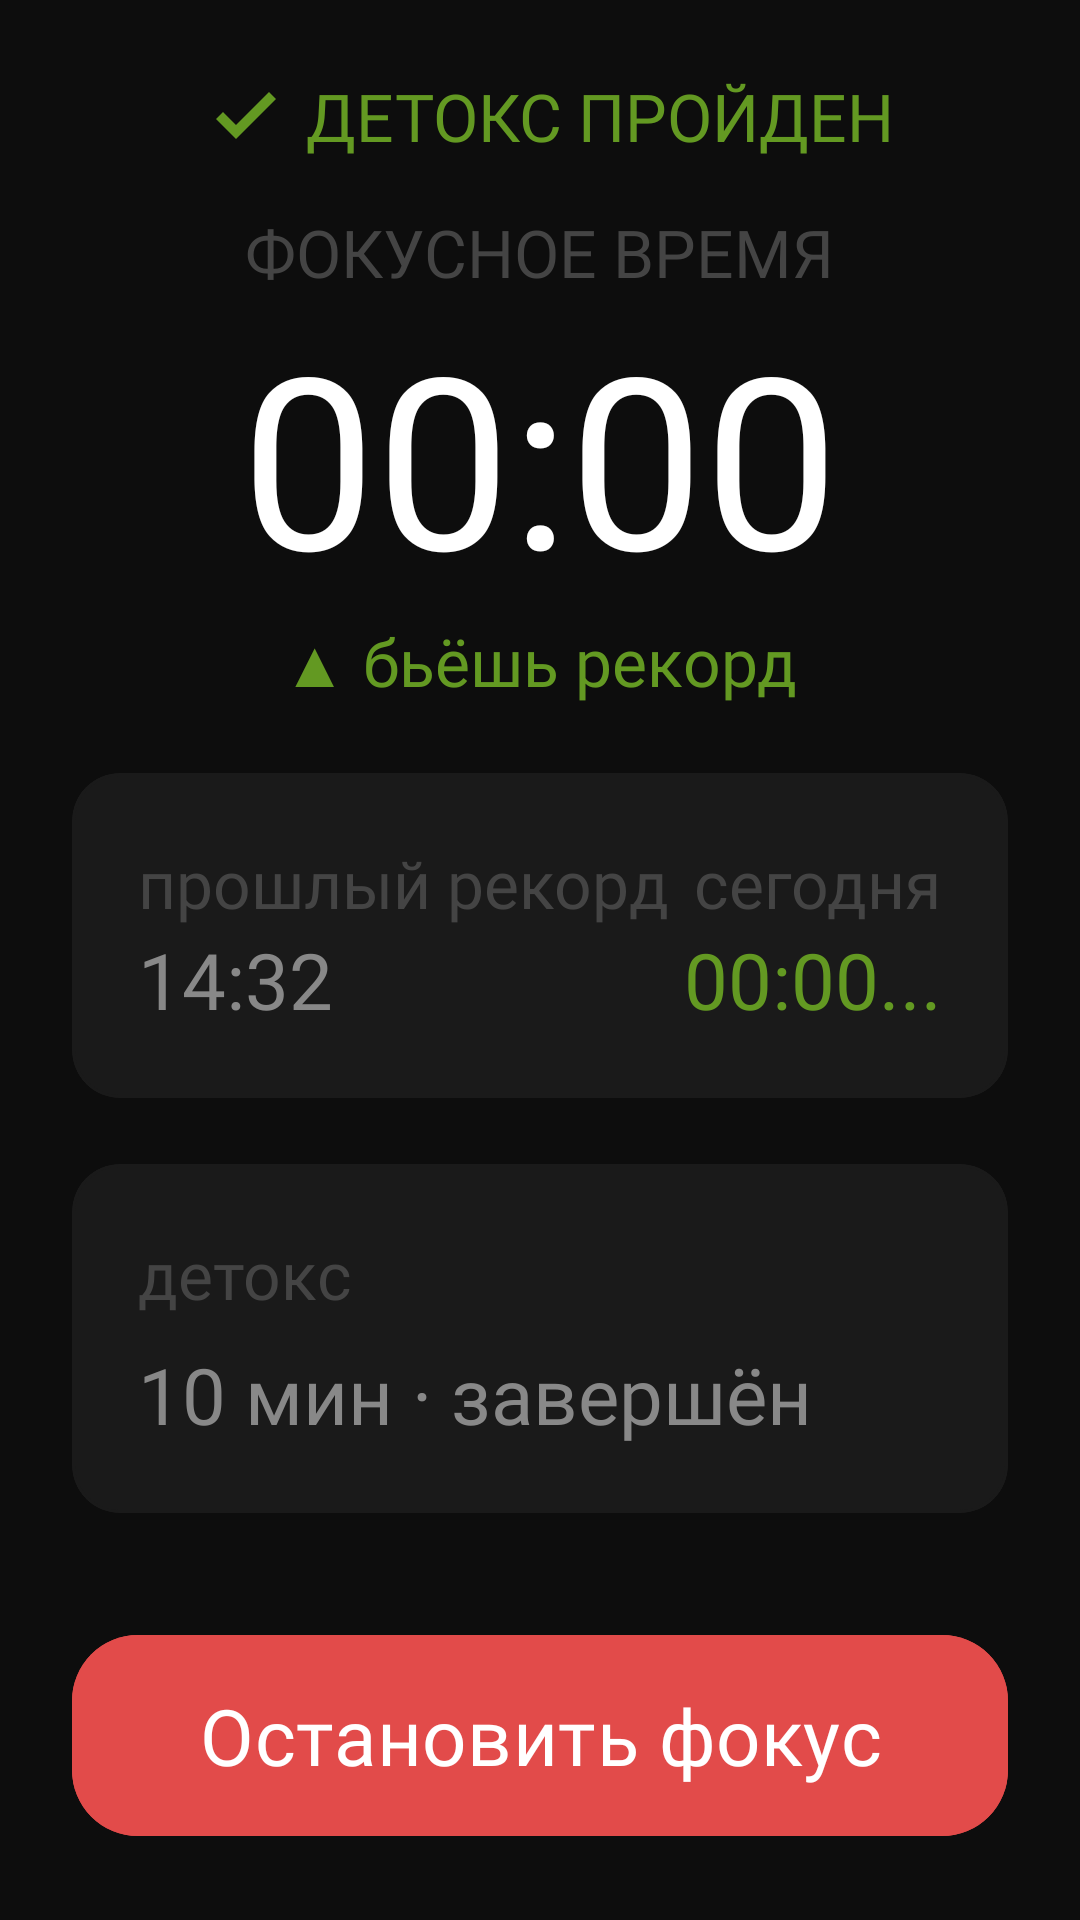

Locate icon controls on the screen. Image size 1080 x 1920, boxes as (x1, y1, x2, y2).
check: (216, 92, 276, 139)
